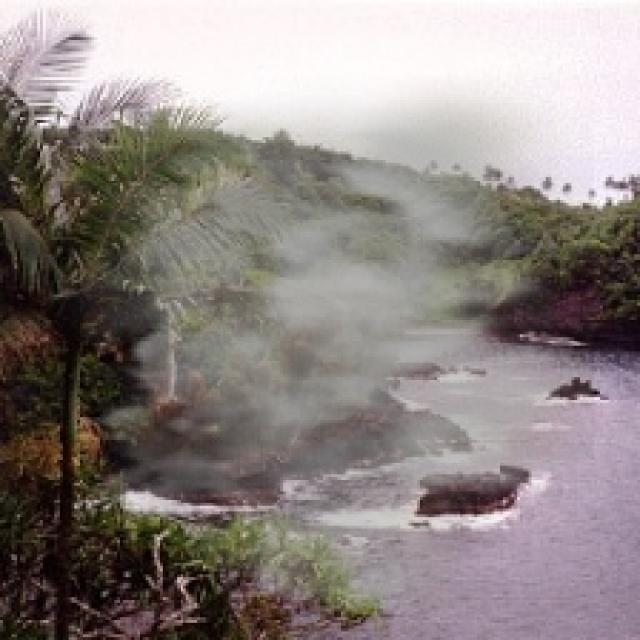Smoke: (32, 74, 594, 609)
